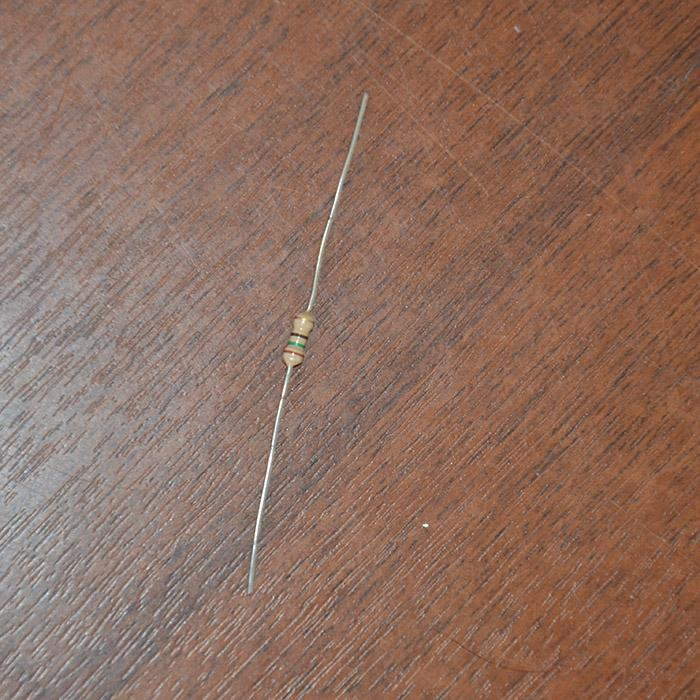resistor: (283, 310, 314, 367)
